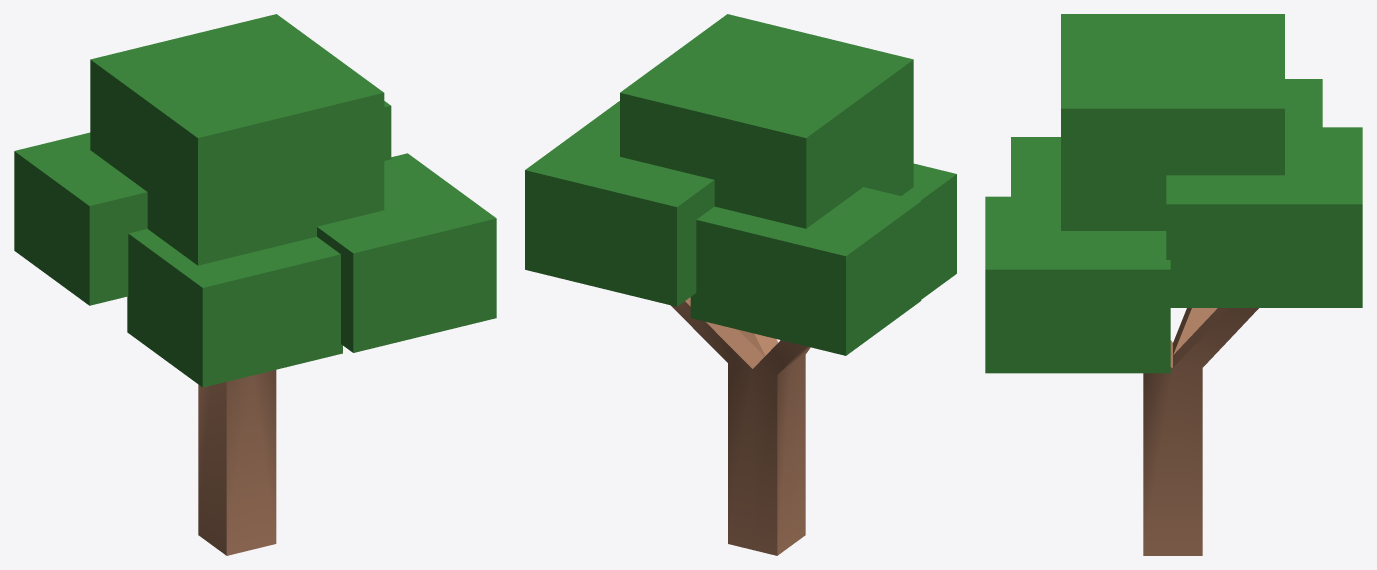
File: Tree02.fbx
The picture shows the model from 3 angles, left to right: view 1: azimuth 30°, elevation 25°; view 2: azimuth 150°, elevation 25°; view 3: azimuth 270°, elevation 25°; orthographic projection. The views are drawn at different scales.
Visible parts, largest first — view 1: polySurface1; view 2: polySurface1; view 3: polySurface1.
Boxes of the visible parts, bbox=[...] form: polySurface1: bbox=[14, 14, 496, 555]; polySurface1: bbox=[525, 14, 956, 555]; polySurface1: bbox=[985, 14, 1362, 555].
Size of the model in its own units: 12.98 by 17.95 by 12.74.
